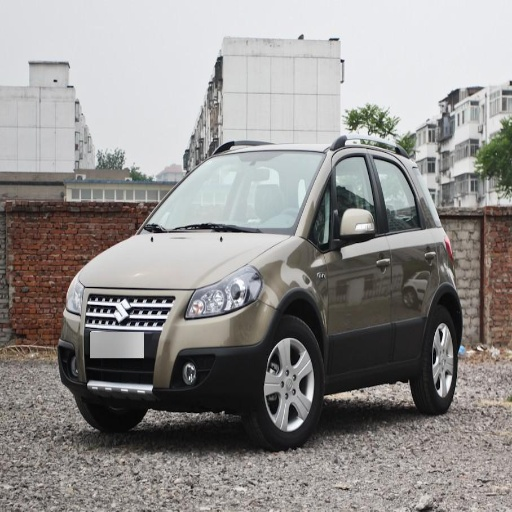front_bumper: (61, 286, 276, 420)
front_glass: (142, 156, 323, 234)
front_left_door: (310, 149, 392, 375)
